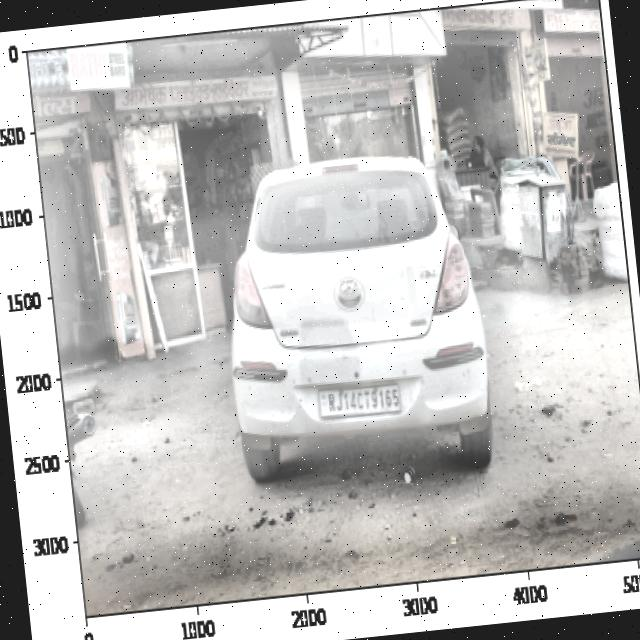license_plate: (321, 380, 406, 421)
